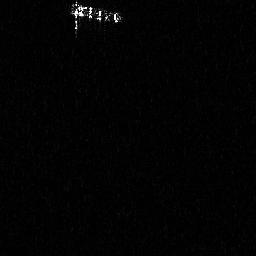ship: (70, 1, 123, 31)
